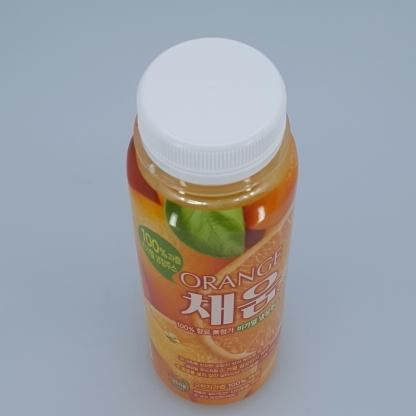--------210ML: (126, 36, 299, 406)
